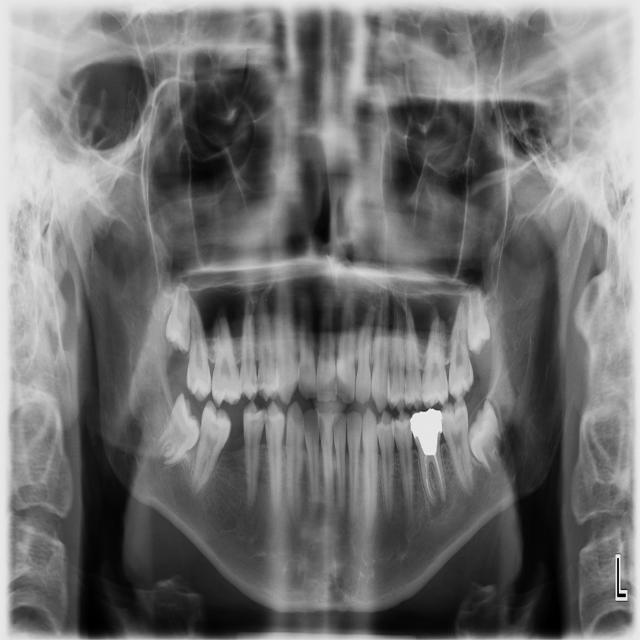mandibula: (73, 188, 597, 614)
